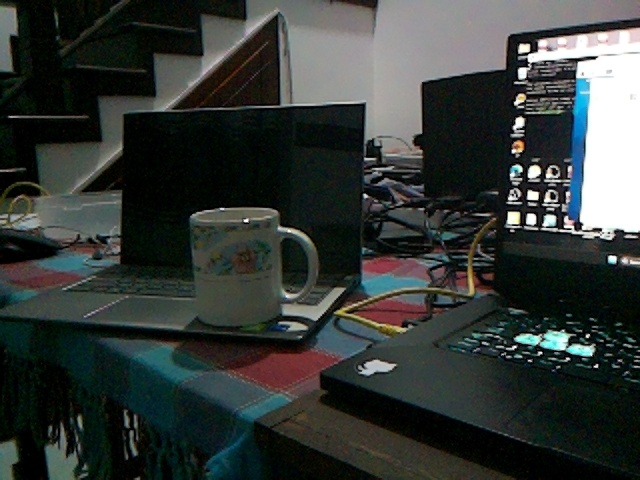mug: (186, 205, 322, 329)
